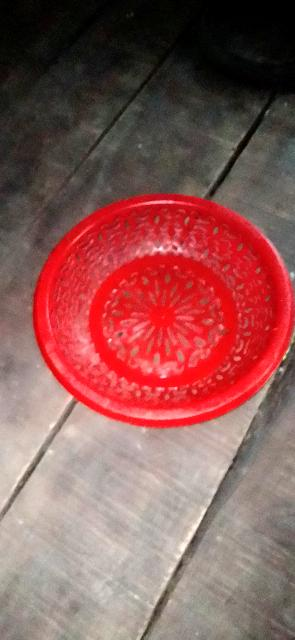hardplastic: (15, 166, 295, 471)
